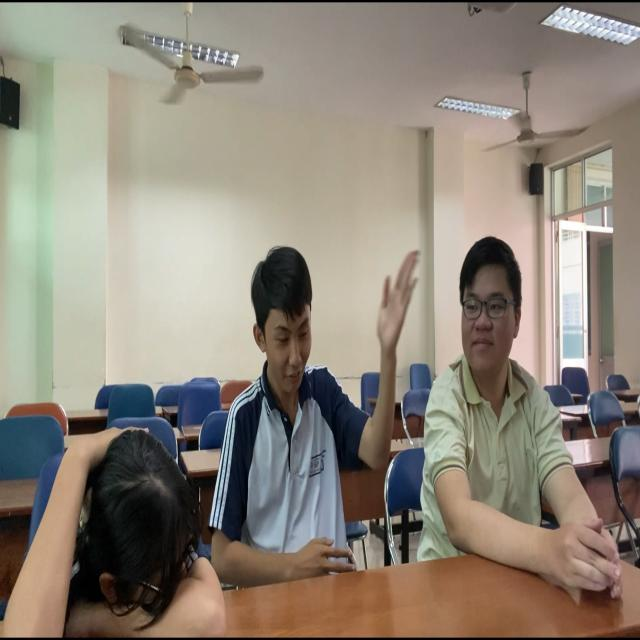raise_hand: (221, 240, 419, 612)
sleep: (1, 409, 227, 640)
